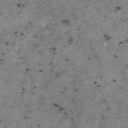oxide scale of temperature system: (0, 3, 82, 128), (88, 34, 128, 122), (22, 115, 40, 128), (114, 5, 122, 12)
